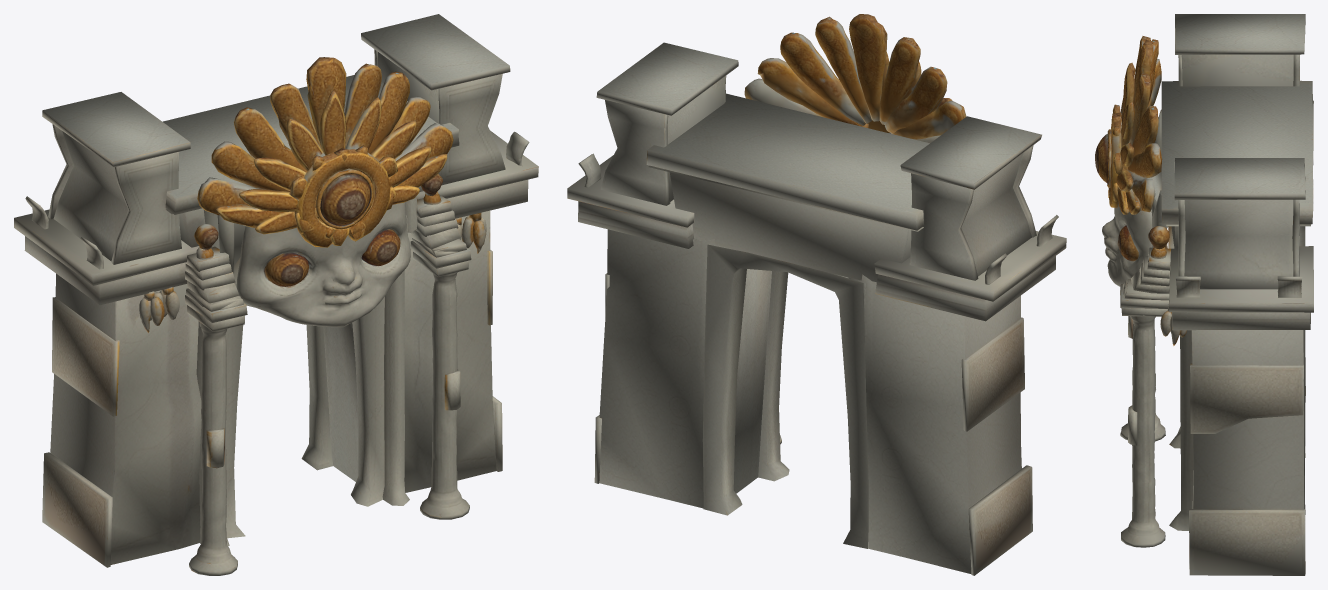
File: sky-tiki-sanctuary.glb
3 views of the same model, side by side, from view 1: azimuth 30°, elevation 25°; view 2: azimuth 150°, elevation 25°; view 3: azimuth 270°, elevation 25° (orthographic). The views are drawn at different scales.
Parts seen in each view (by area): view 1: sky-tiki-sanctuary; view 2: sky-tiki-sanctuary; view 3: sky-tiki-sanctuary.
Part boxes in pixels (<box>): sky-tiki-sanctuary: <box>14,14,538,575</box>; sky-tiki-sanctuary: <box>567,14,1066,575</box>; sky-tiki-sanctuary: <box>1095,14,1313,575</box>.
Bounding box in the file's own units: 0.9801 × 1 × 0.4485.
1 material, 1 textured.
